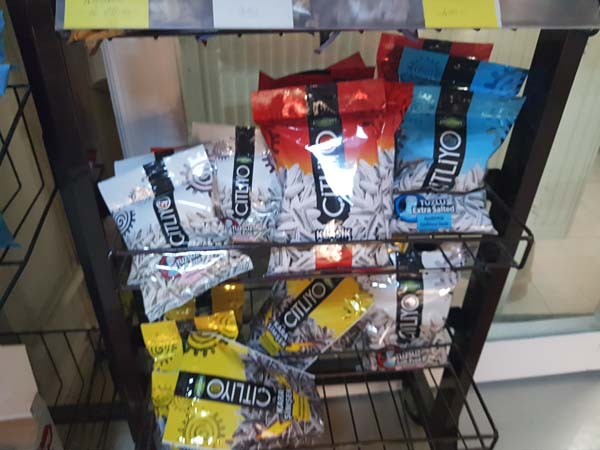citliyorkarasisimsek: (160, 326, 331, 450), (262, 270, 366, 381)
citliyorklasik: (254, 80, 400, 268)
